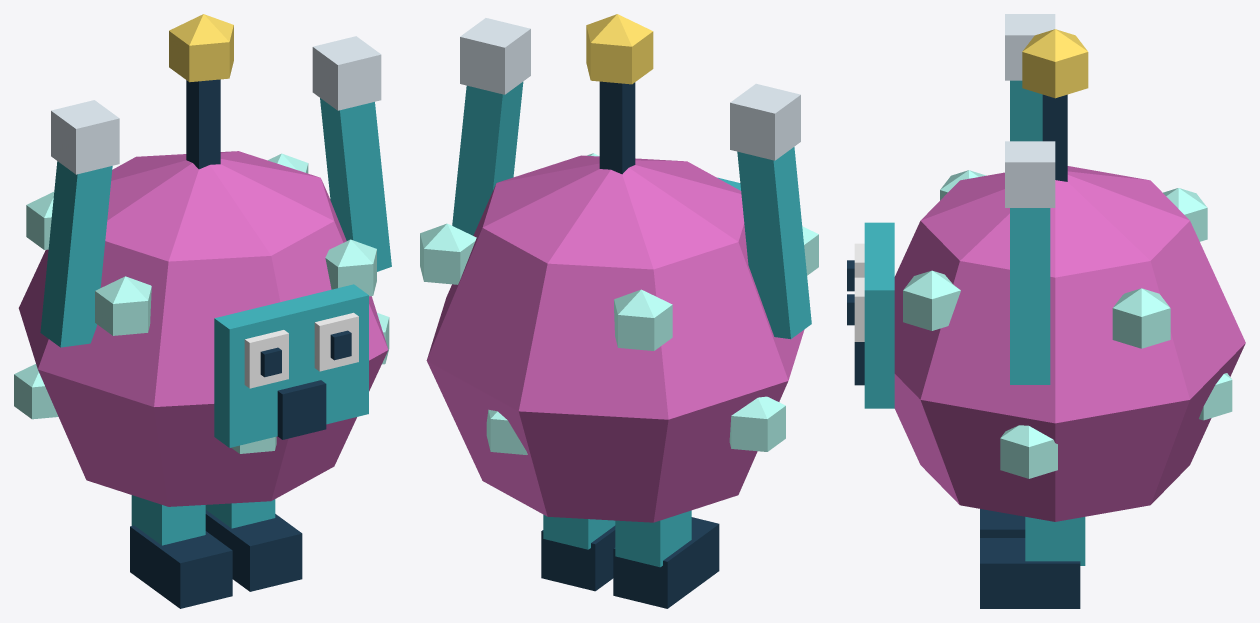
File: kamikaze_r12.glb
The picture shows the model from 3 angles, left to right: view 1: azimuth 30°, elevation 25°; view 2: azimuth 150°, elevation 25°; view 3: azimuth 270°, elevation 25°; orthographic projection. The views are drawn at different scales.
Parts seen in each view (by area): view 1: kamikaze_r12_mesh; view 2: kamikaze_r12_mesh; view 3: kamikaze_r12_mesh.
Part boxes in pixels (left/top/right/bottom): kamikaze_r12_mesh: left=14, top=14, right=391, bottom=608; kamikaze_r12_mesh: left=420, top=14, right=818, bottom=608; kamikaze_r12_mesh: left=847, top=14, right=1245, bottom=608.
Size of the model in its own units: 0.8373 by 1.3 by 0.8541.
Materials: 1 (1 with a texture image).
